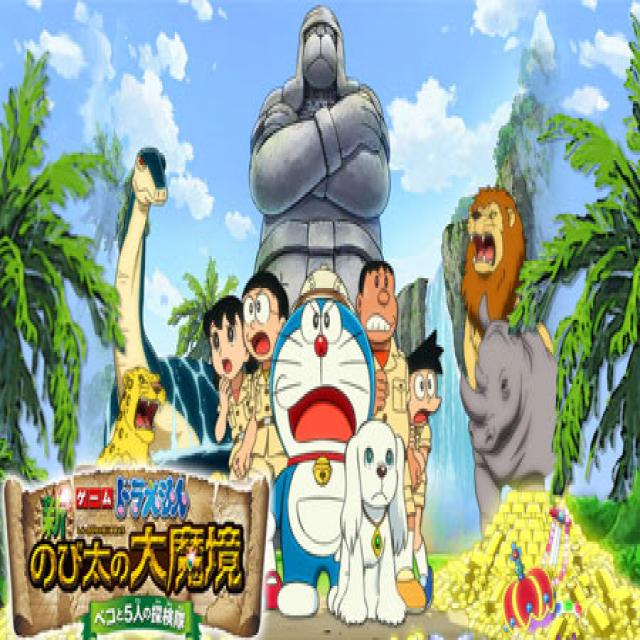doraemon: (266, 285, 381, 490)
jaian: (354, 249, 403, 364)
nobita: (238, 261, 290, 369)
shizuka: (202, 283, 252, 394)
suneo: (398, 325, 444, 438)
